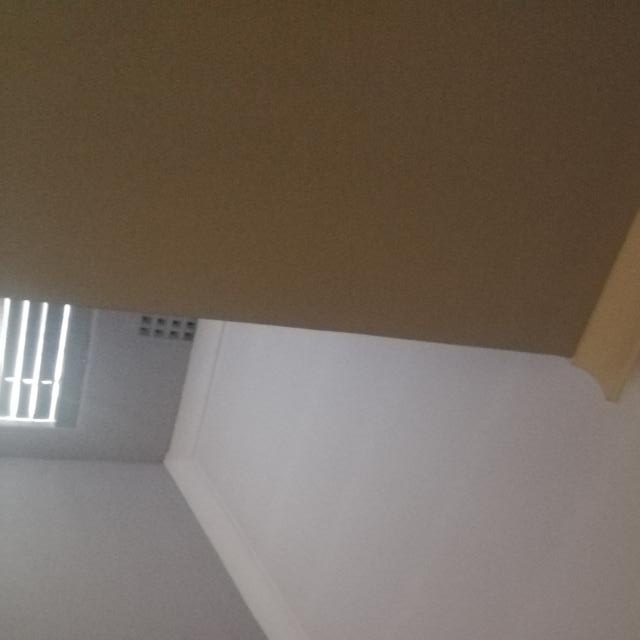fluorescent tube: (467, 255, 640, 640)
